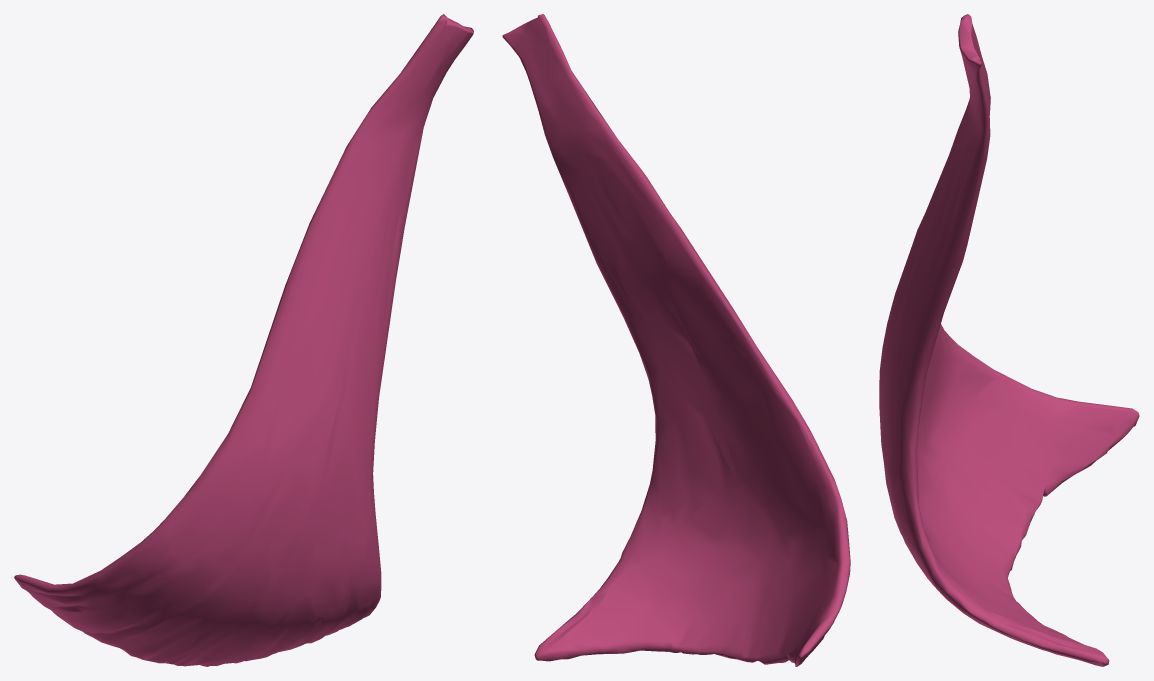
3 renders of one model, left to right at view 1: azimuth 30°, elevation 25°; view 2: azimuth 150°, elevation 25°; view 3: azimuth 270°, elevation 25°, orthographic. The views are drawn at different scales.
Parts seen in each view (by area): view 1: 右侧上睑提肌; view 2: 右侧上睑提肌; view 3: 右侧上睑提肌.
Boxes of the visible parts, bbox=[...] form: 右侧上睑提肌: bbox=[14, 14, 473, 666]; 右侧上睑提肌: bbox=[502, 14, 850, 666]; 右侧上睑提肌: bbox=[879, 14, 1139, 666].
Bounding box in the file's own units: 0.0444 × 0.0678 × 0.0234.
